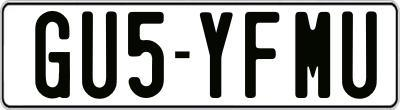5: (126, 11, 168, 103)
F: (244, 10, 283, 102)
G: (33, 9, 68, 98)
M: (295, 11, 331, 102)
U: (79, 10, 117, 104), (341, 11, 380, 100)
Y: (197, 10, 232, 100)
